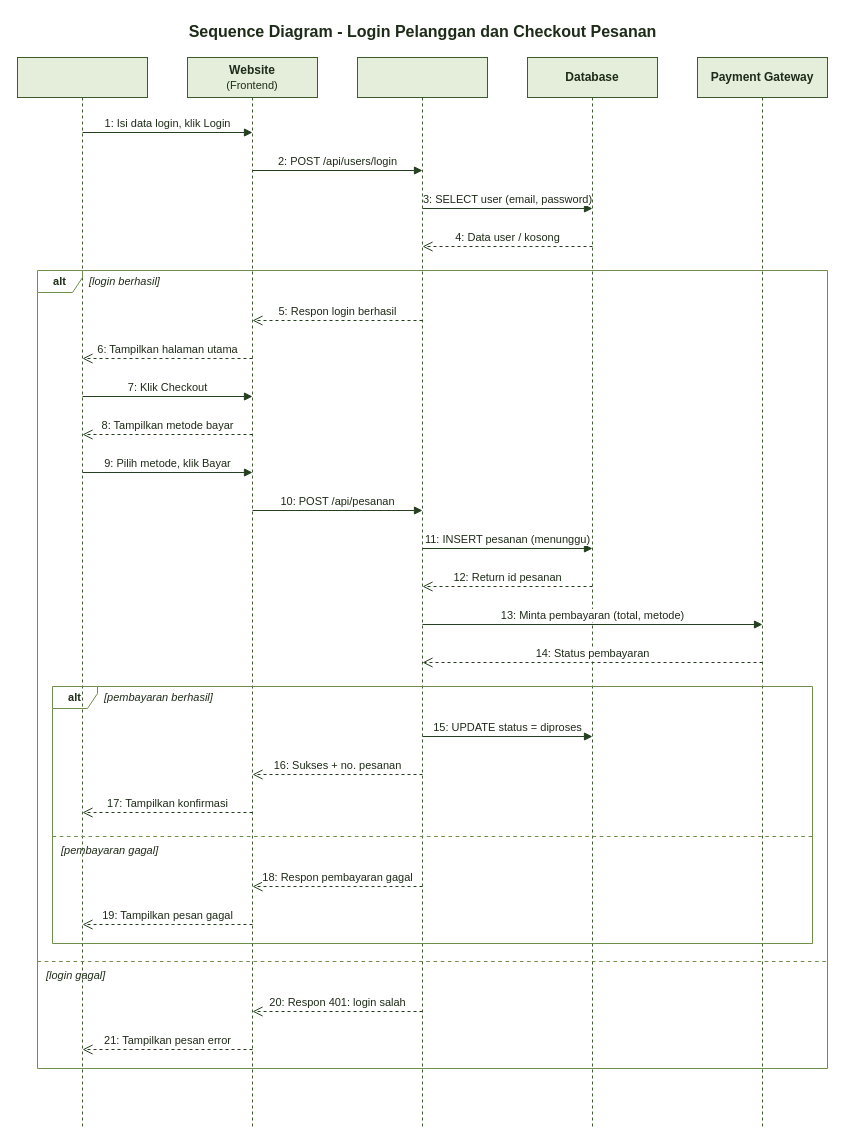
The diagram is 847 pixels wide and 1145 high, and some of its shapes have lost their labels. The shapes that lost their labels are listed below. From the top down, each one's box as (x1, y1, x2, y2) in pixels, then its label:
(16, 56, 148, 1128): Pelanggan
(356, 56, 488, 1128): Backend API
